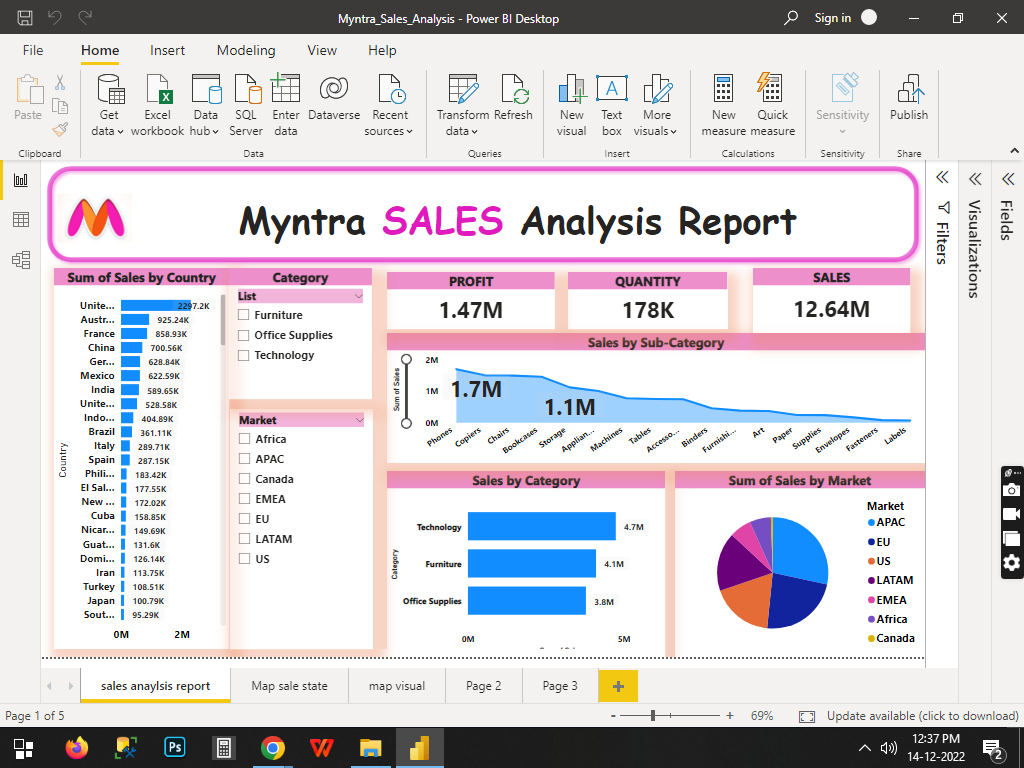

Layout of this report page (visuals, bound fields, positions):
{"tool":"powerbi","page":{"name":"sales anaylsis report","canvas":[1280,720],"ordinal":0},"visuals":[{"type":"barChart","title":"Sales by Category","fields":{"Category":["Orders.Category"],"Y":["Sum(Orders.Sales)"]},"box":[500.9,450.4,403.5,269.6],"z":0},{"type":"pieChart","fields":{"Category":["Orders.Market"],"Y":["Sum(Orders.Sales)"]},"box":[918.3,450.4,361.7,269.6],"z":1000},{"type":"FlowVisual_C29F1DCC_81F5_4973_94AD_0517D44CC06A","box":[317.3,707.8,535.6,12.2],"z":2000},{"type":"stackedAreaChart","title":"Sales by Sub-Category","fields":{"Category":["Orders.Sub-Category"],"Y":["Sum(Orders.Sales)"]},"box":[500.9,250.4,779.1,187.8],"z":3000},{"type":"barChart","fields":{"Category":["Orders.Country"],"Y":["Sum(Orders.Sales)"]},"box":[19.1,156.5,253.9,551.3],"z":4000},{"type":"card","title":"SALES","fields":{"Values":["Sum(Orders.Sales)"]},"box":[1031.3,156.5,227.8,93.9],"z":5000},{"type":"card","title":"PROFIT","fields":{"Values":["Sum(Orders.Profit)"]},"box":[500.9,161.7,243.5,83.5],"z":6000},{"type":"card","title":"QUANTITY","fields":{"Values":["Sum(Orders.Quantity)"]},"box":[763.5,161.7,231.3,83.5],"z":7000},{"type":"slicer","fields":{"Values":["Orders.Market"]},"box":[273,360,207,347.8],"z":8000},{"type":"slicer","title":"Category","fields":{"Values":["Orders.Category"]},"box":[272.2,156.4,207.1,189.7],"z":9000},{"type":"textbox","box":[135.7,43.5,1107.8,90.4],"z":10000},{"type":"image","box":[19.1,12.2,116.5,144.3],"z":11000},{"type":"shape","box":[0,0,1280,156.5],"z":12000}]}

Visuals, with their boxes on the page's 1280x720 design canvas (x1, y1, x2, y2). These are canvas units, not pixel positions in the 1024x768 screenshot, which may show the page scaled, cropped or inside an application window:
"Sales by Category" barChart: (x1=501, y1=450, x2=904, y2=720)
pieChart - Orders.Market x Sum(Orders.Sales): (x1=918, y1=450, x2=1280, y2=720)
FlowVisual_C29F1DCC_81F5_4973_94AD_0517D44CC06A: (x1=317, y1=708, x2=853, y2=720)
"Sales by Sub-Category" stackedAreaChart: (x1=501, y1=250, x2=1280, y2=438)
barChart - Orders.Country x Sum(Orders.Sales): (x1=19, y1=156, x2=273, y2=708)
"SALES" card: (x1=1031, y1=156, x2=1259, y2=250)
"PROFIT" card: (x1=501, y1=162, x2=744, y2=245)
"QUANTITY" card: (x1=764, y1=162, x2=995, y2=245)
slicer - Orders.Market: (x1=273, y1=360, x2=480, y2=708)
"Category" slicer: (x1=272, y1=156, x2=479, y2=346)
textbox: (x1=136, y1=44, x2=1244, y2=134)
image: (x1=19, y1=12, x2=136, y2=156)
shape: (x1=0, y1=0, x2=1280, y2=156)
